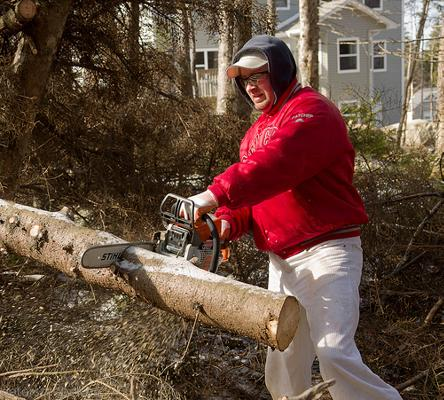person: (171, 33, 404, 400)
